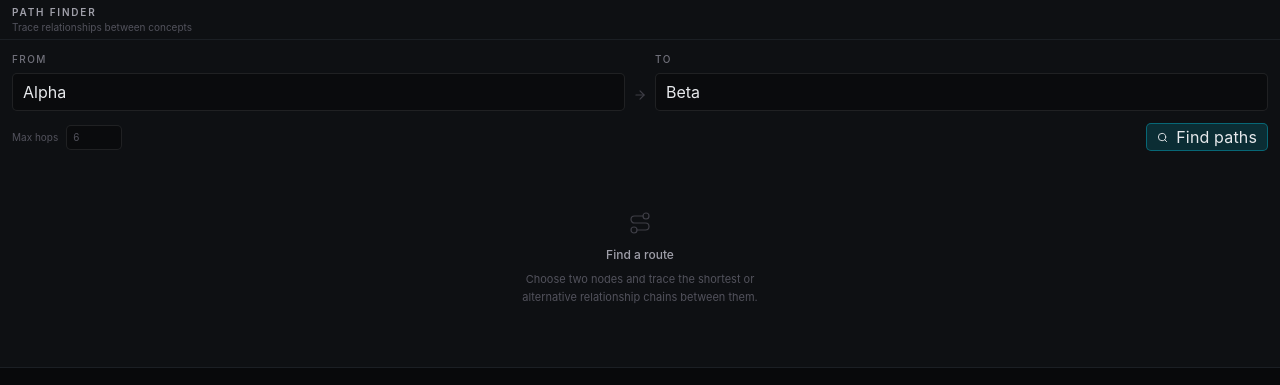
Test: PathFinderPanel › clamps the hop limit to the supported range
This screenshot has width=1280, height=385.
Step 1. Replace the text in the number field named "Maximum path length" with "99" → (94, 137), box top-left (66, 124), bottom-right (122, 150)
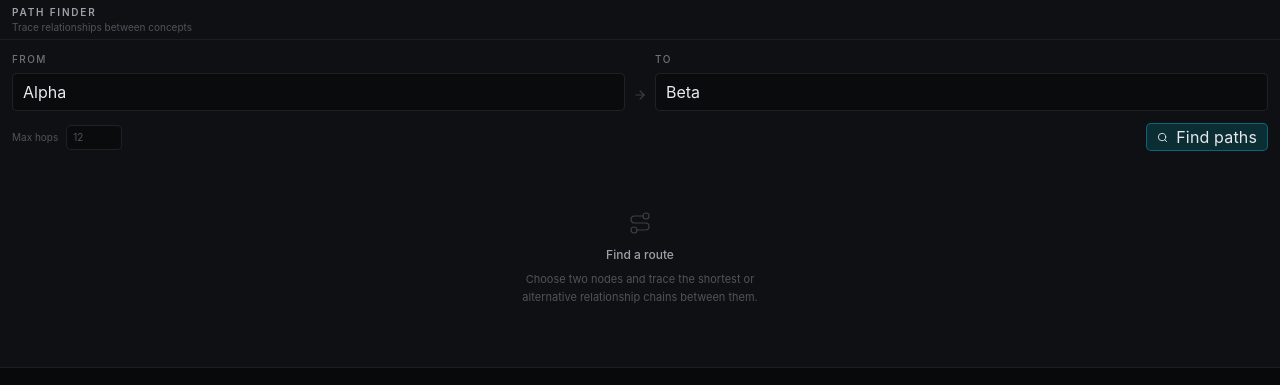
Expected: the number field named "Maximum path length" holds "12"
Step 2. Replace the text in the number field named "Maximum path length" with "0" → (94, 137), box top-left (66, 124), bottom-right (122, 150)
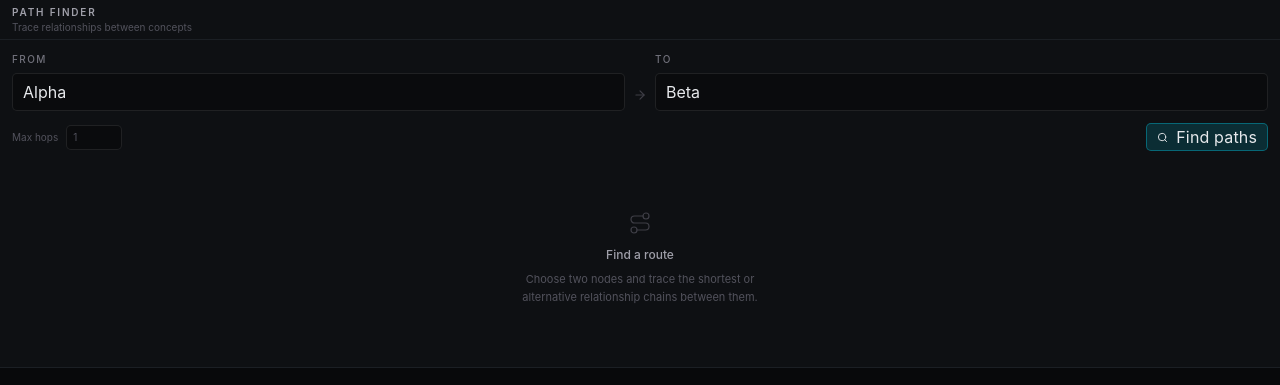
Expected: the number field named "Maximum path length" holds "1", top-left (66, 124), bottom-right (122, 150)
